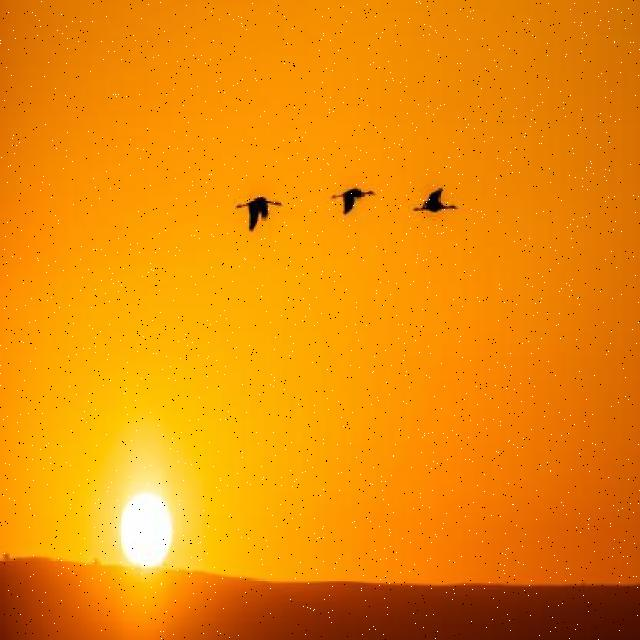bird: (235, 196, 282, 232), (332, 187, 376, 218), (414, 187, 458, 216)
